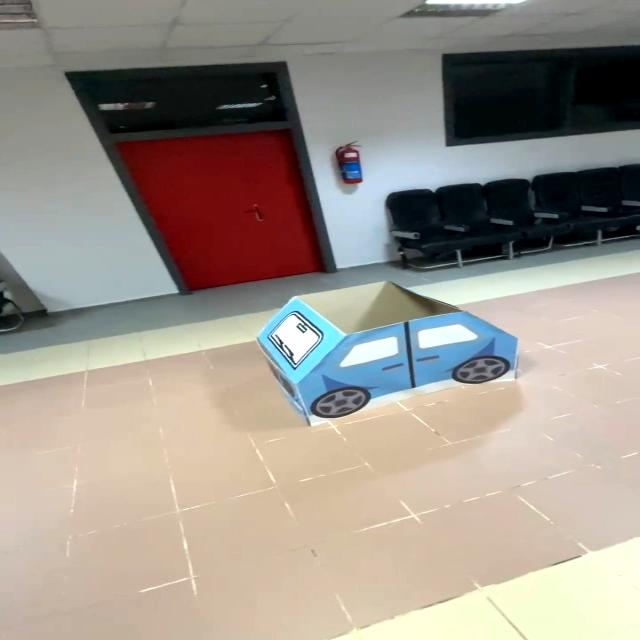blue_car: (198, 274, 571, 434)
